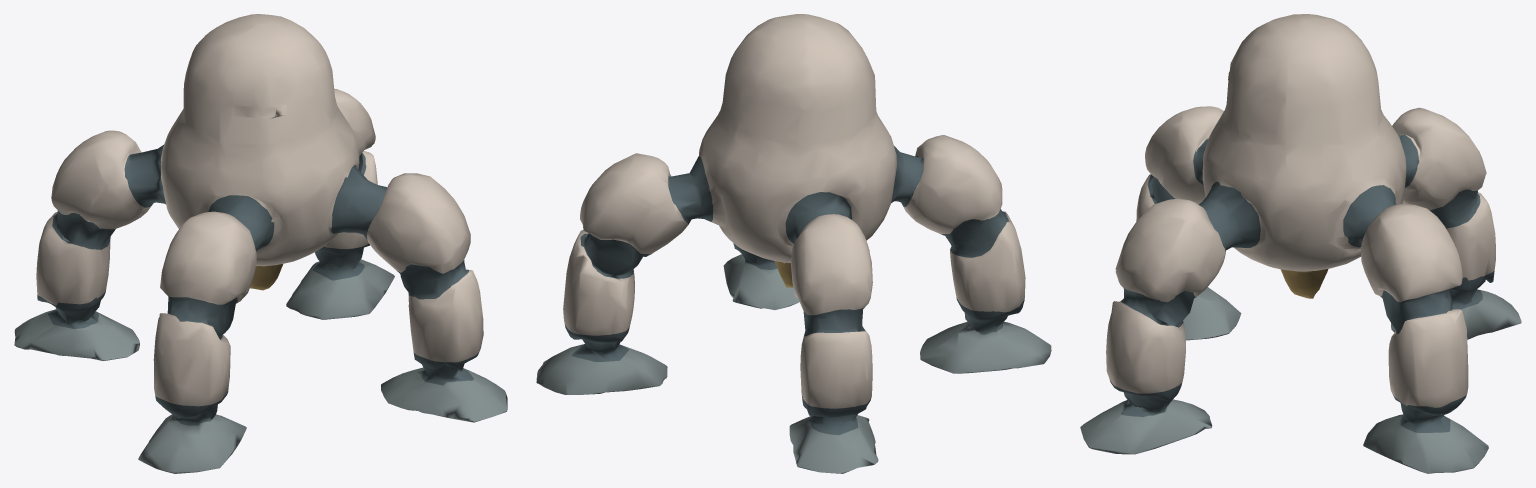
The model's file is plumbwalker.glb.
3 views of the same model, side by side, from view 1: azimuth 30°, elevation 25°; view 2: azimuth 150°, elevation 25°; view 3: azimuth 270°, elevation 25° (orthographic). The views are drawn at different scales.
Visible parts, largest first — view 1: plumbwalker; view 2: plumbwalker; view 3: plumbwalker.
Part boxes in pixels (x1=…): plumbwalker: x1=14, y1=14, x2=507, y2=473; plumbwalker: x1=536, y1=14, x2=1051, y2=473; plumbwalker: x1=1080, y1=14, x2=1521, y2=473.
Size of the model in its own units: 2.99 by 2.62 by 2.94.
